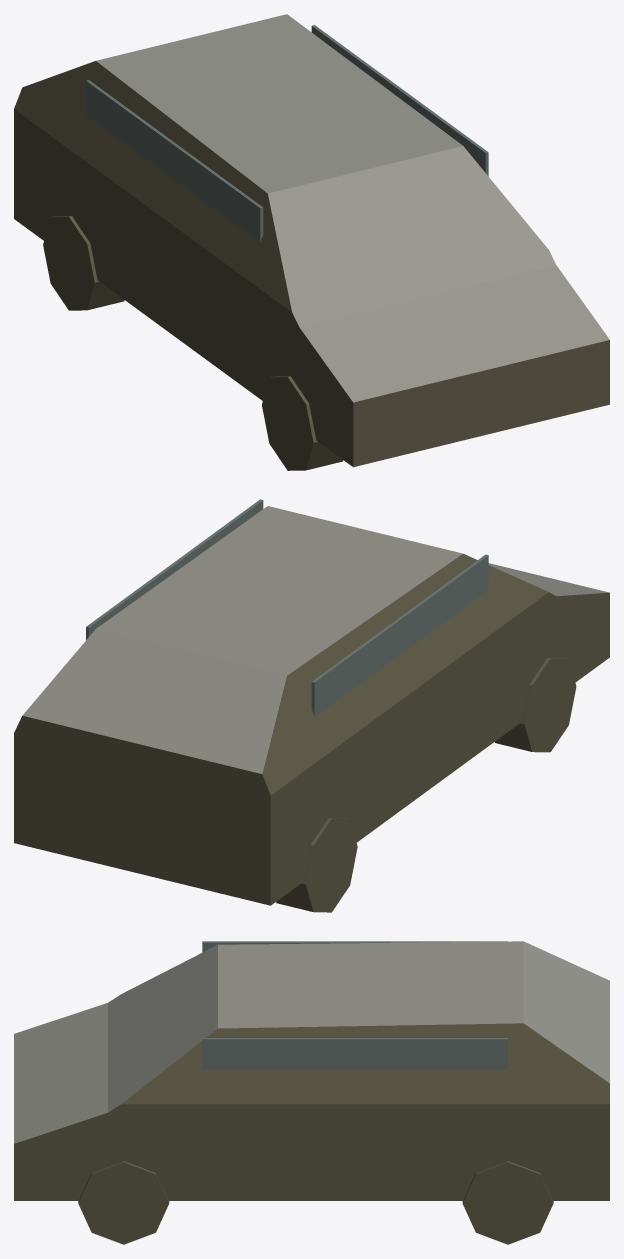
File: SM_CocheCivil_Utilitario_v0_LOD1.fbx
The picture shows the model from 3 angles, top to bottom: view 1: azimuth 30°, elevation 25°; view 2: azimuth 150°, elevation 25°; view 3: azimuth 270°, elevation 25°; orthographic projection. The views are drawn at different scales.
Parts seen in each view (by area): view 1: SM_coche_civil_v0_LOD1; view 2: SM_coche_civil_v0_LOD1; view 3: SM_coche_civil_v0_LOD1.
Part boxes in pixels (left/top/right/bottom): SM_coche_civil_v0_LOD1: left=14, top=14, right=609, bottom=470; SM_coche_civil_v0_LOD1: left=14, top=499, right=609, bottom=912; SM_coche_civil_v0_LOD1: left=14, top=941, right=609, bottom=1244.
Size of the model in its own units: 1.7 by 1.45 by 3.8.
